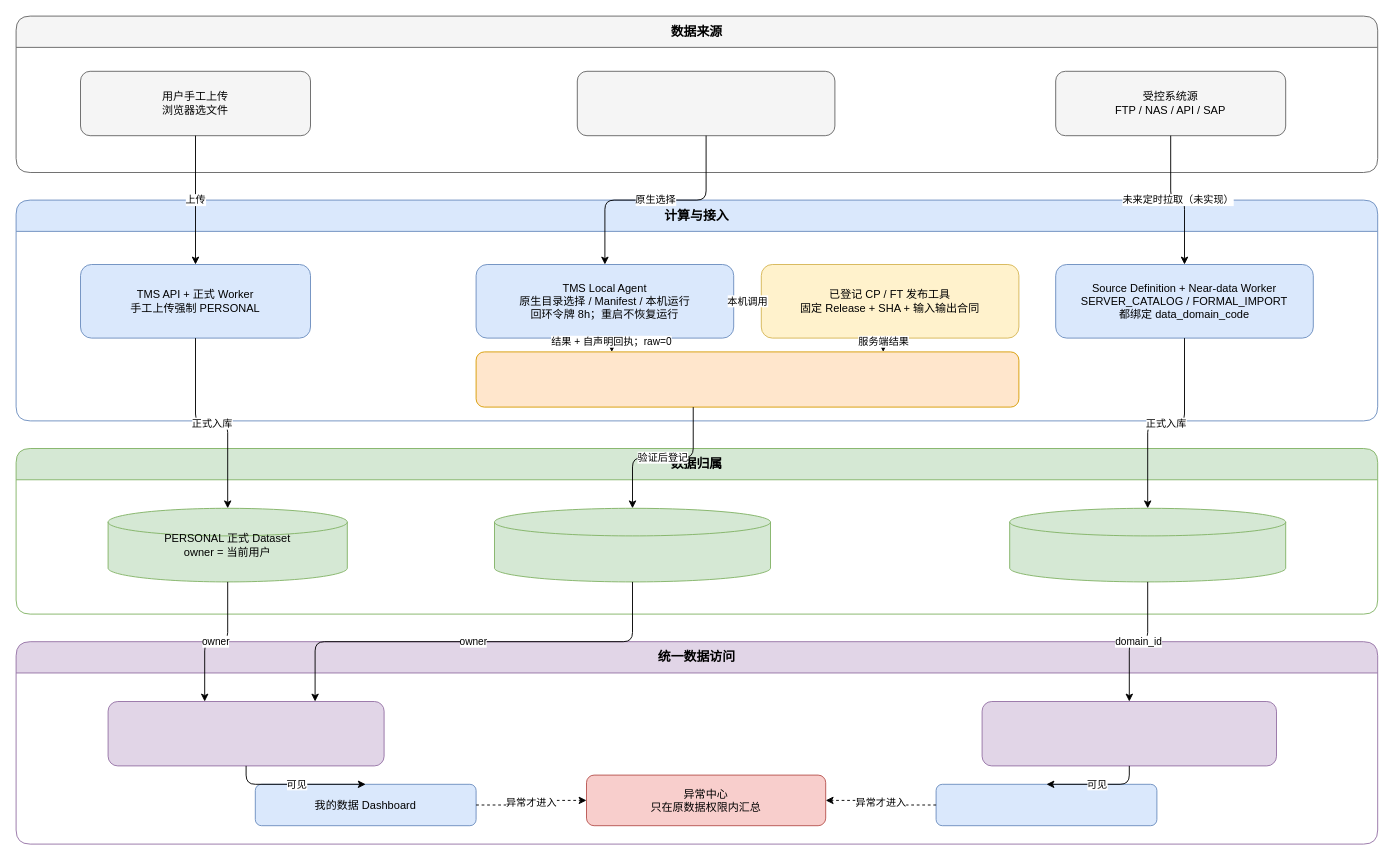
Image size: 1394x860. Some labels were removed from this diagram. Each missing label, with the centre of its shape:
"Data Domain Grant ACTIVE 且未过期的显式用户授权" belongs at point 1128,733.
"DOMAIN 正式 Dataset data_domain_id 来自 Source Definition" belongs at point 1147,544.
"Owner 条件 PERSONAL 且 owner_user_id = 当前用户" belongs at point 245,733.
"PERSONAL Quick Workspace PAT.xlsx + Summary + Manifest / TTL" belongs at point 632,544.
"严格结果容器验证 大小 / SHA / Manifest / XLSX 白名单 仅接收结果，不接收本机原始文件" belongs at point 747,379.
"数据域 Dashboard" belongs at point 1046,804.
"用户电脑目录 例如 520 个杰群 CSV / 2.83 GiB" belongs at point 705,103.
